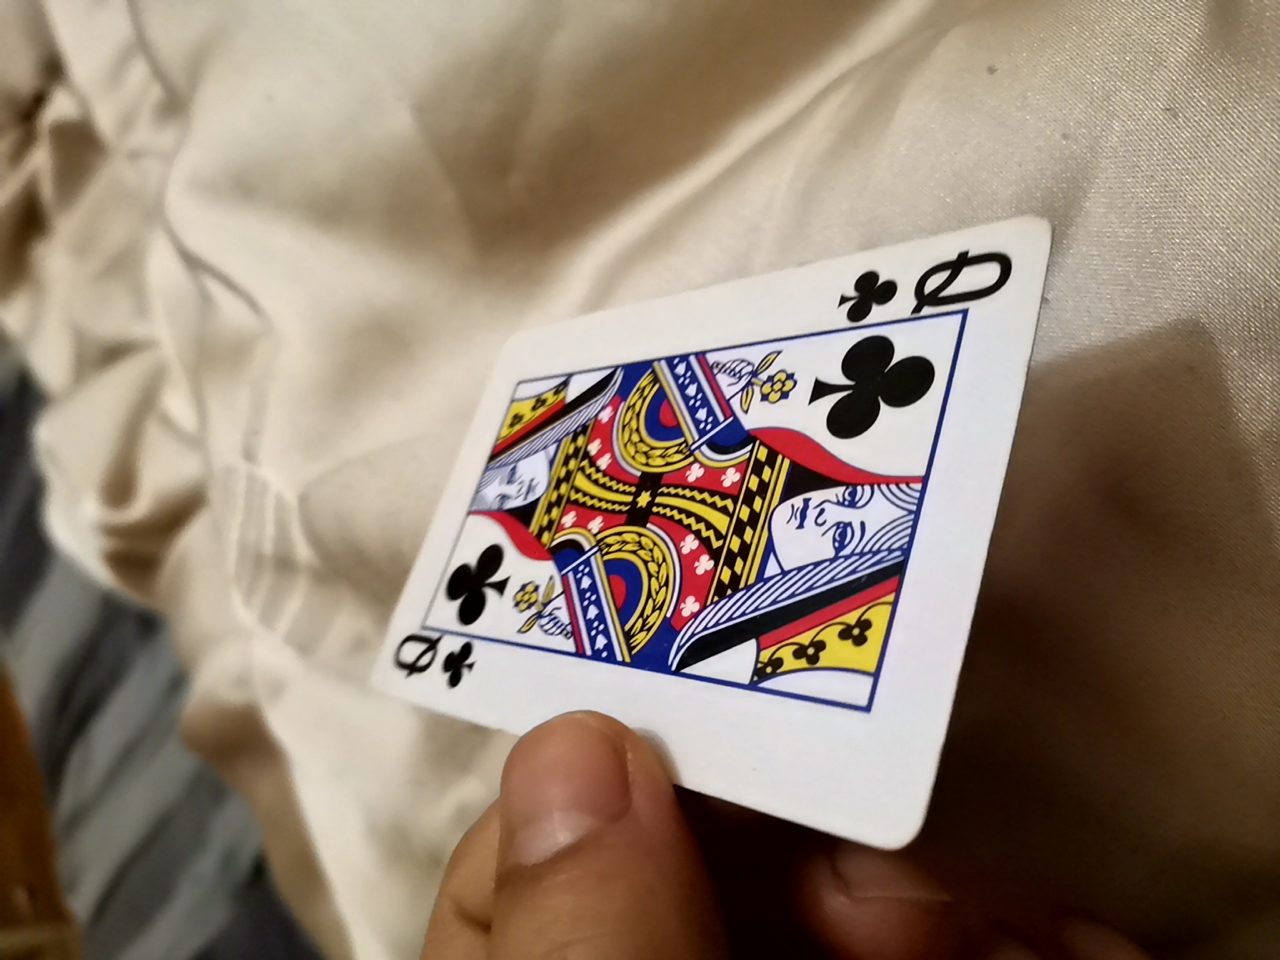mh q: (350, 238, 1021, 843)
